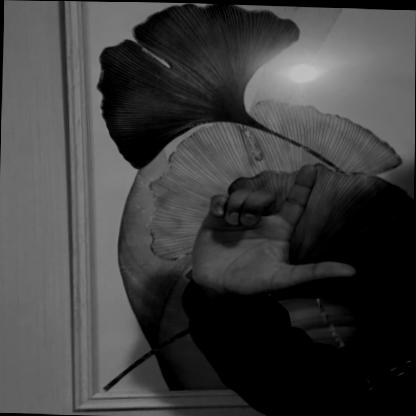L: (189, 158, 360, 299)
